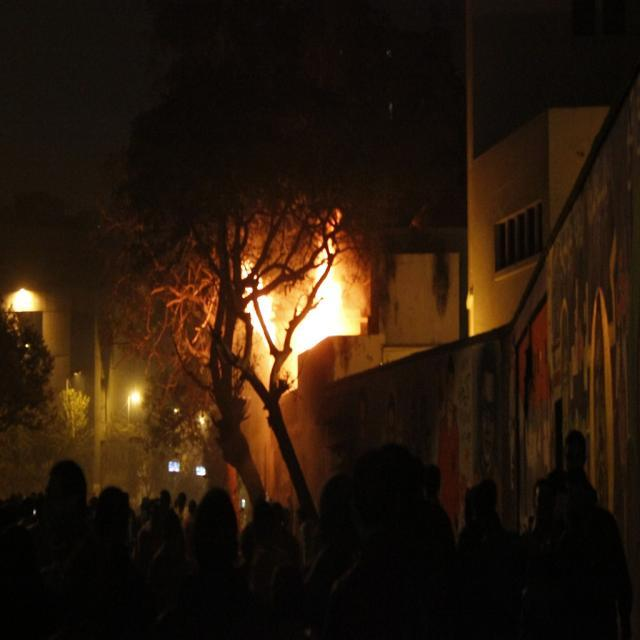Fire: (310, 232, 340, 336), (249, 282, 272, 342), (17, 290, 48, 316)
